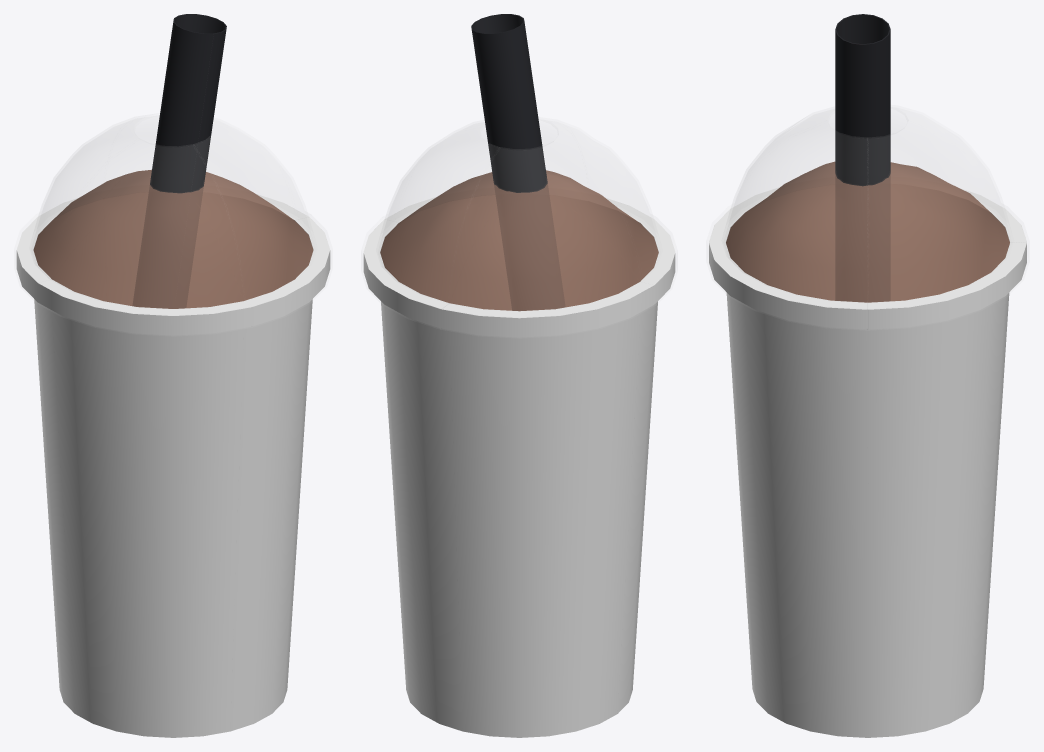
The picture shows the model from 3 angles, left to right: view 1: azimuth 30°, elevation 25°; view 2: azimuth 150°, elevation 25°; view 3: azimuth 270°, elevation 25°; orthographic projection.
Parts seen in each view (by area): view 1: Plastic_Cup, Tea, Tube, Dome_Lid; view 2: Plastic_Cup, Tea, Tube, Dome_Lid; view 3: Plastic_Cup, Tea, Tube, Dome_Lid.
Part boxes in pixels (box(x1,y1,x2,y2)): Plastic_Cup: box(16, 194, 330, 737); Tea: box(33, 169, 313, 308); Tube: box(133, 14, 226, 308); Dome_Lid: box(37, 115, 312, 300); Plastic_Cup: box(363, 197, 675, 737); Tea: box(380, 170, 658, 311); Tube: box(471, 14, 565, 310); Dome_Lid: box(381, 119, 655, 303); Plastic_Cup: box(709, 187, 1026, 737); Tea: box(726, 161, 1009, 302); Tube: box(835, 14, 890, 301); Dome_Lid: box(728, 107, 1006, 303).
Bounding box in the file's own units: 0.7562 × 1.74 × 0.7562.
